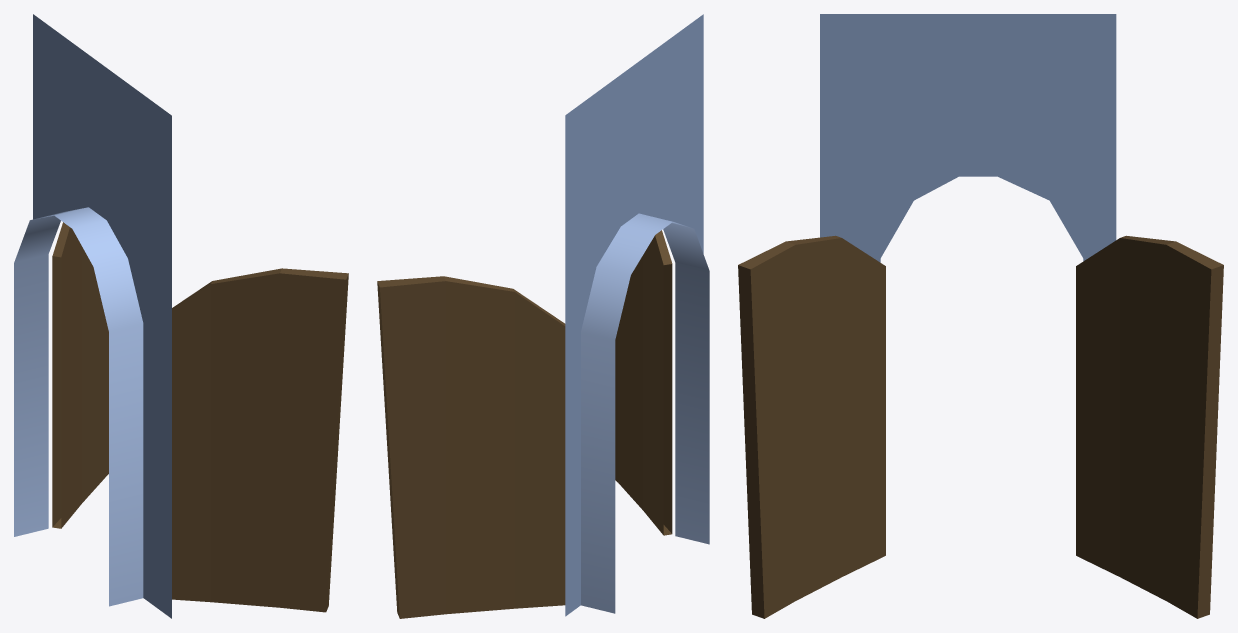
Rendered from M_mur_porte.FBX.
3 views of the same model, side by side, from view 1: azimuth 30°, elevation 25°; view 2: azimuth 150°, elevation 25°; view 3: azimuth 270°, elevation 25° (orthographic). The views are drawn at different scales.
Visible parts, largest first — view 1: M_mur_porte; view 2: M_mur_porte; view 3: M_mur_porte.
Boxes of the visible parts, x1,y1,x2,y2 form: M_mur_porte: (14,14,348,618); M_mur_porte: (377,14,709,618); M_mur_porte: (738,14,1223,618).
Size of the model in its own units: 223 by 600 by 492.
